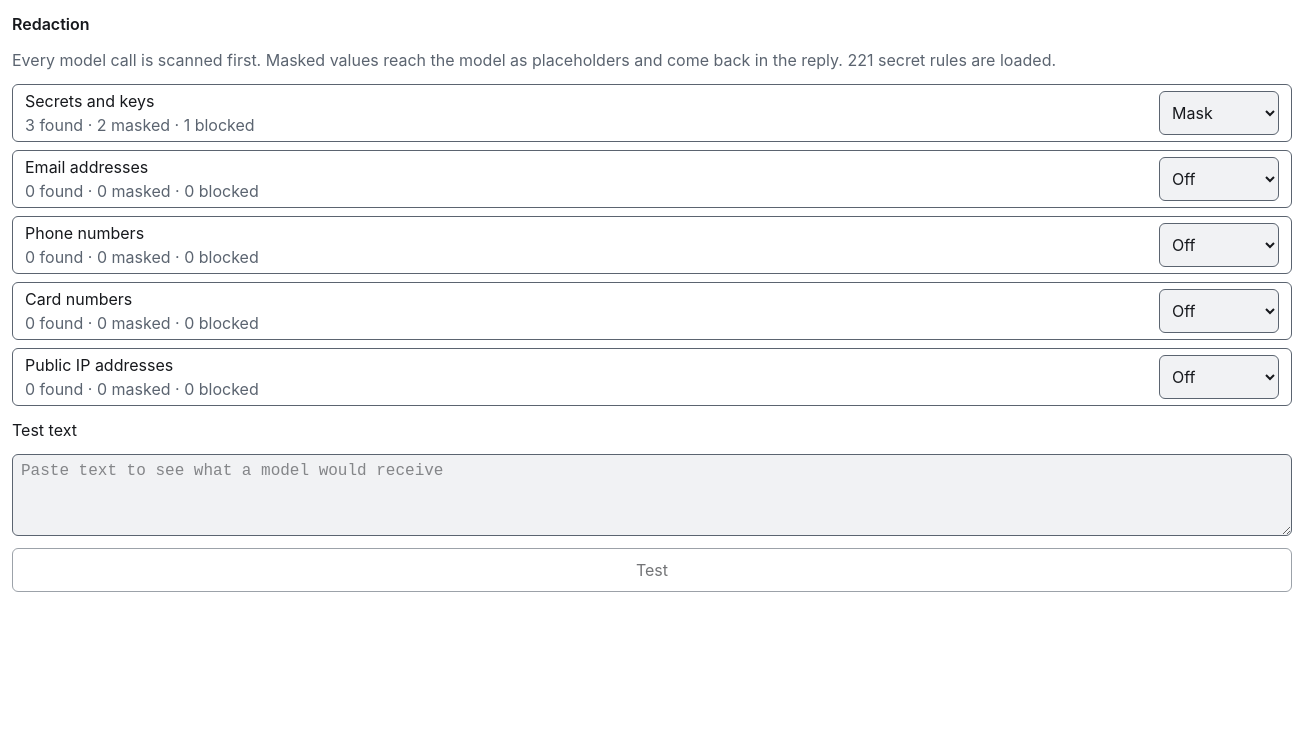
Test: Redaction › reverts a change the server refused
The image size is (1304, 732).
Select "Mask" in the dropdown named "Card numbers mode": (1219, 311) x1=1159 y1=289 x2=1279 y2=333
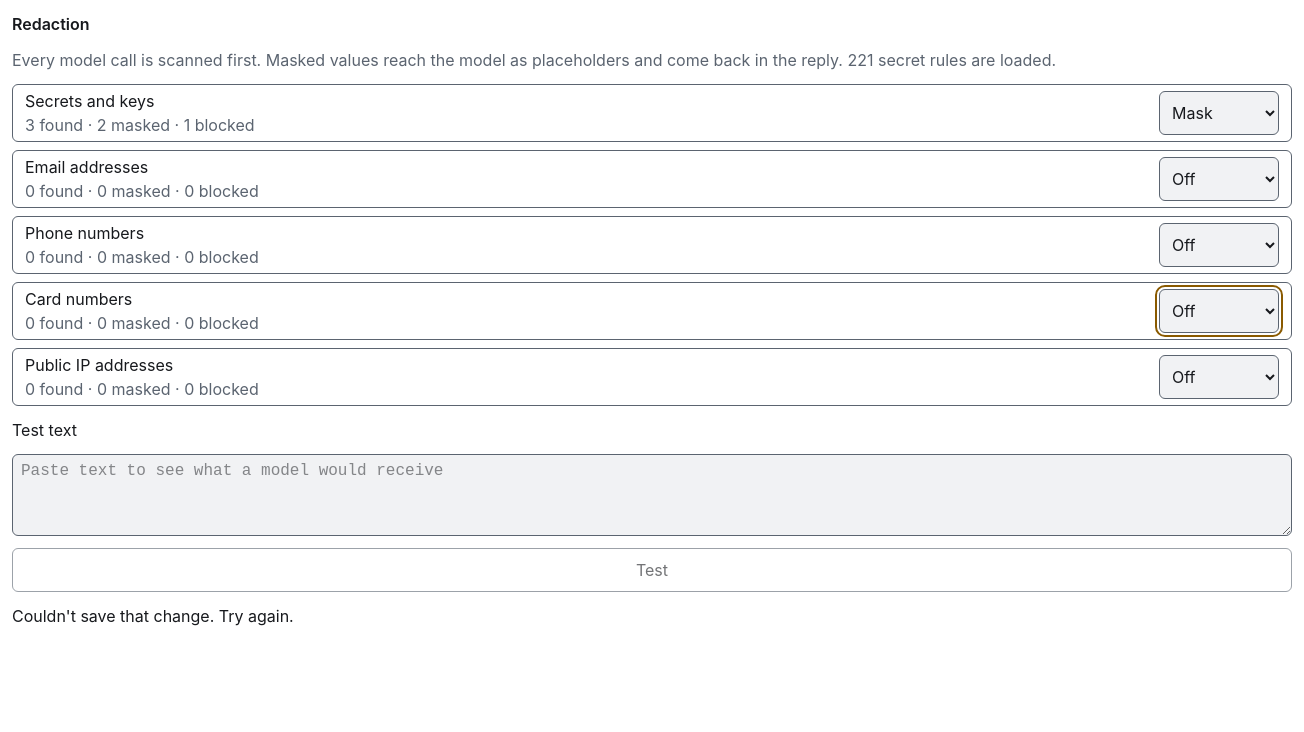
Now the message reads "Couldn't save that change. Try again.", box x1=12 y1=606 x2=294 y2=626
